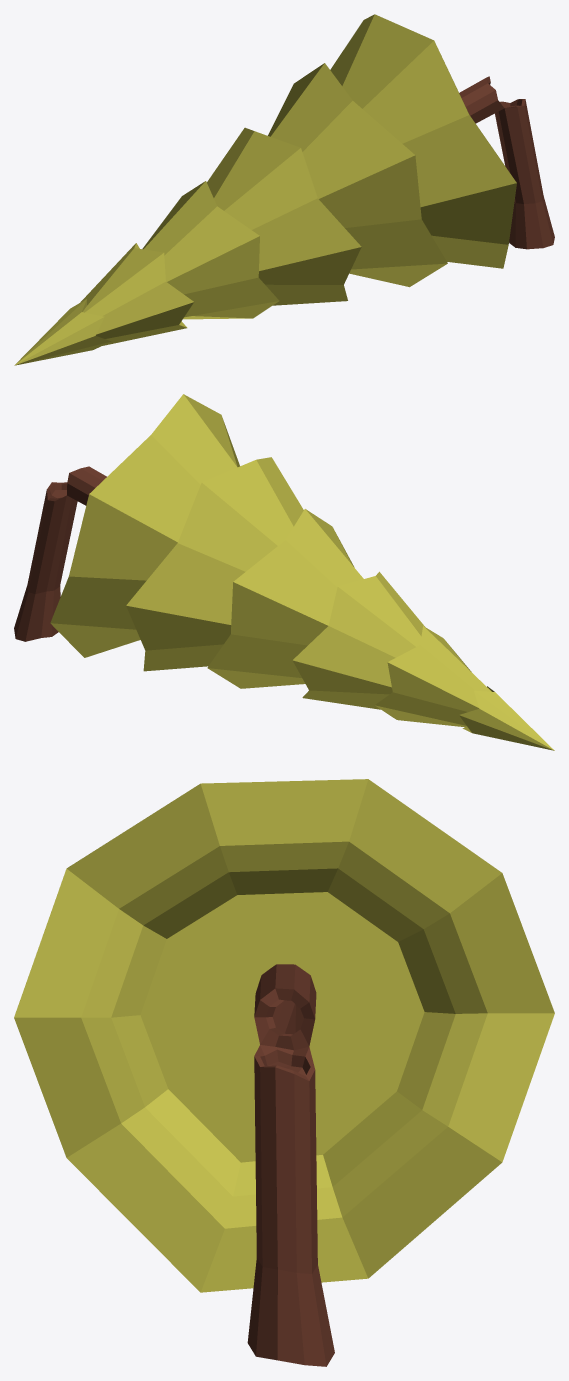
Rendered from BrokenTree.fbx.
3 renders of one model, top to bottom at view 1: azimuth 30°, elevation 25°; view 2: azimuth 150°, elevation 25°; view 3: azimuth 270°, elevation 25°, orthographic. The views are drawn at different scales.
Parts seen in each view (by area): view 1: BrokenTree; view 2: BrokenTree; view 3: BrokenTree.
Part boxes in pixels (x1,y1,x2,y2): BrokenTree: (14,14,554,365); BrokenTree: (14,394,554,750); BrokenTree: (14,779,554,1366).
Size of the model in its own units: 766 by 345 by 365.
